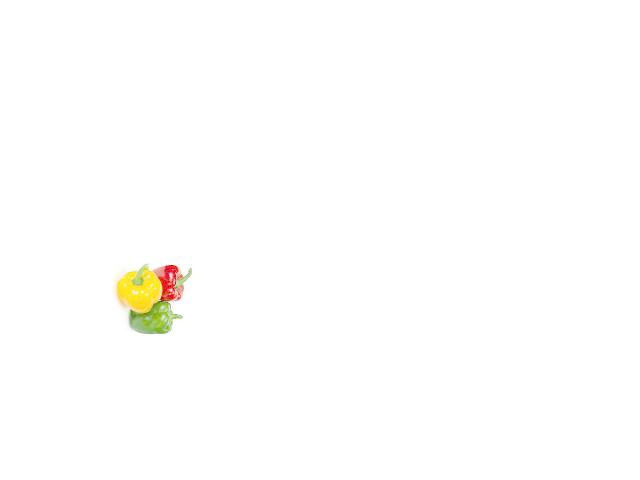bell_pepper: (146, 258, 196, 307)
